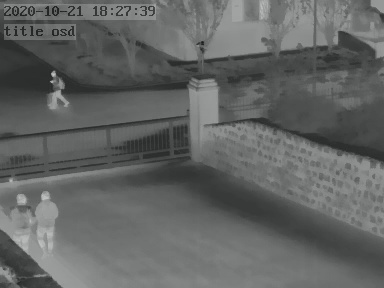person: (35, 188, 58, 252), (13, 191, 36, 249), (45, 66, 66, 108)
